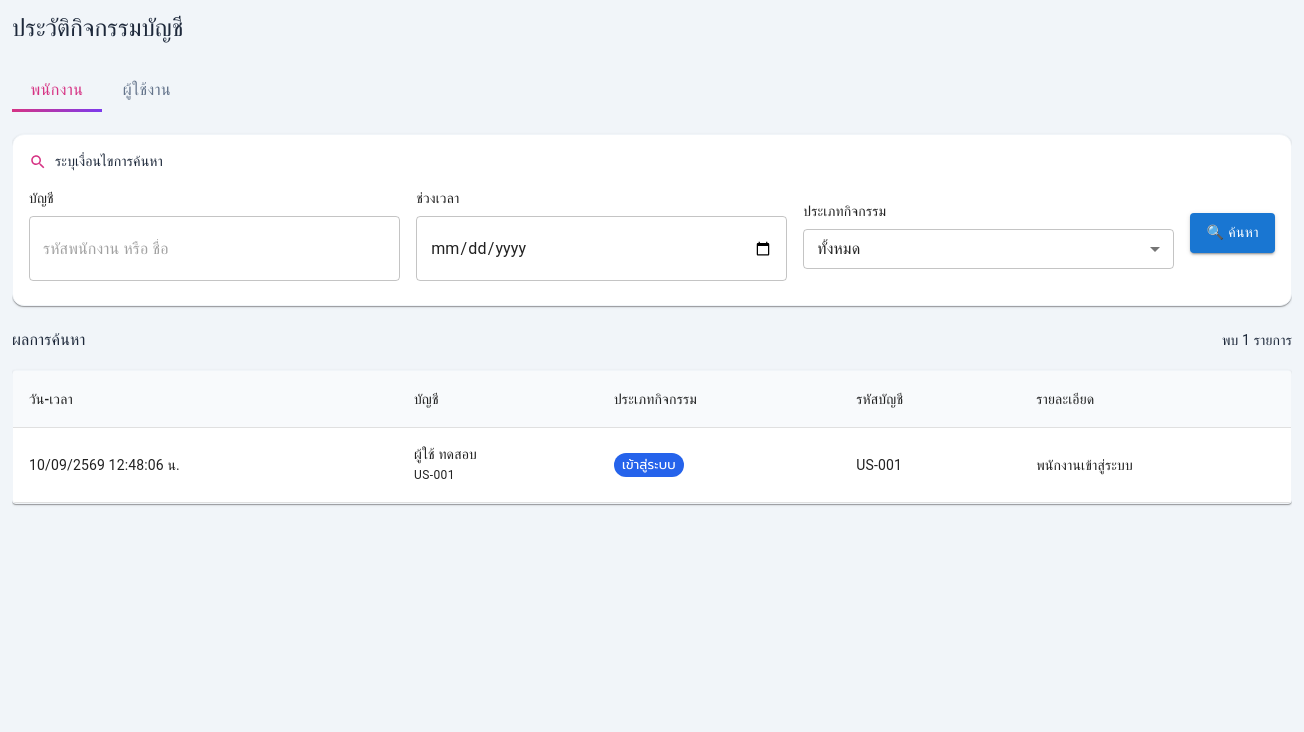
Test case: UsageHistoryPage › shows only account activity for both staff and customer tabs
Expected: the heading "ประวัติกิจกรรมบัญชี" is shown, top-left (12, 12), bottom-right (183, 44)
Expected: the text "พนักงานเข้าสู่ระบบ" is shown, top-left (1020, 428), bottom-right (1291, 502)
Click the tab "ผู้ใช้งาน".
click(147, 90)  # box top-left (102, 68), bottom-right (192, 112)
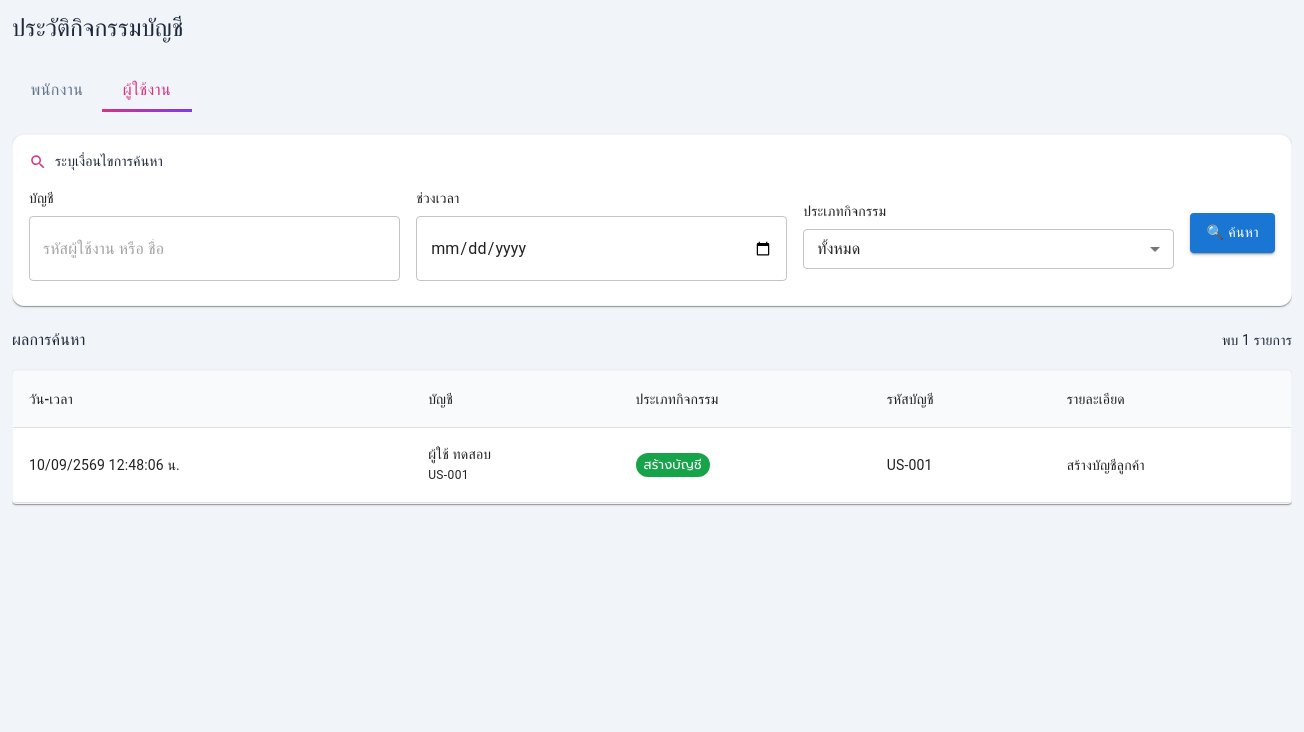
Now the text "สร้างบัญชีลูกค้า" is shown, box top-left (1051, 428), bottom-right (1291, 502)
